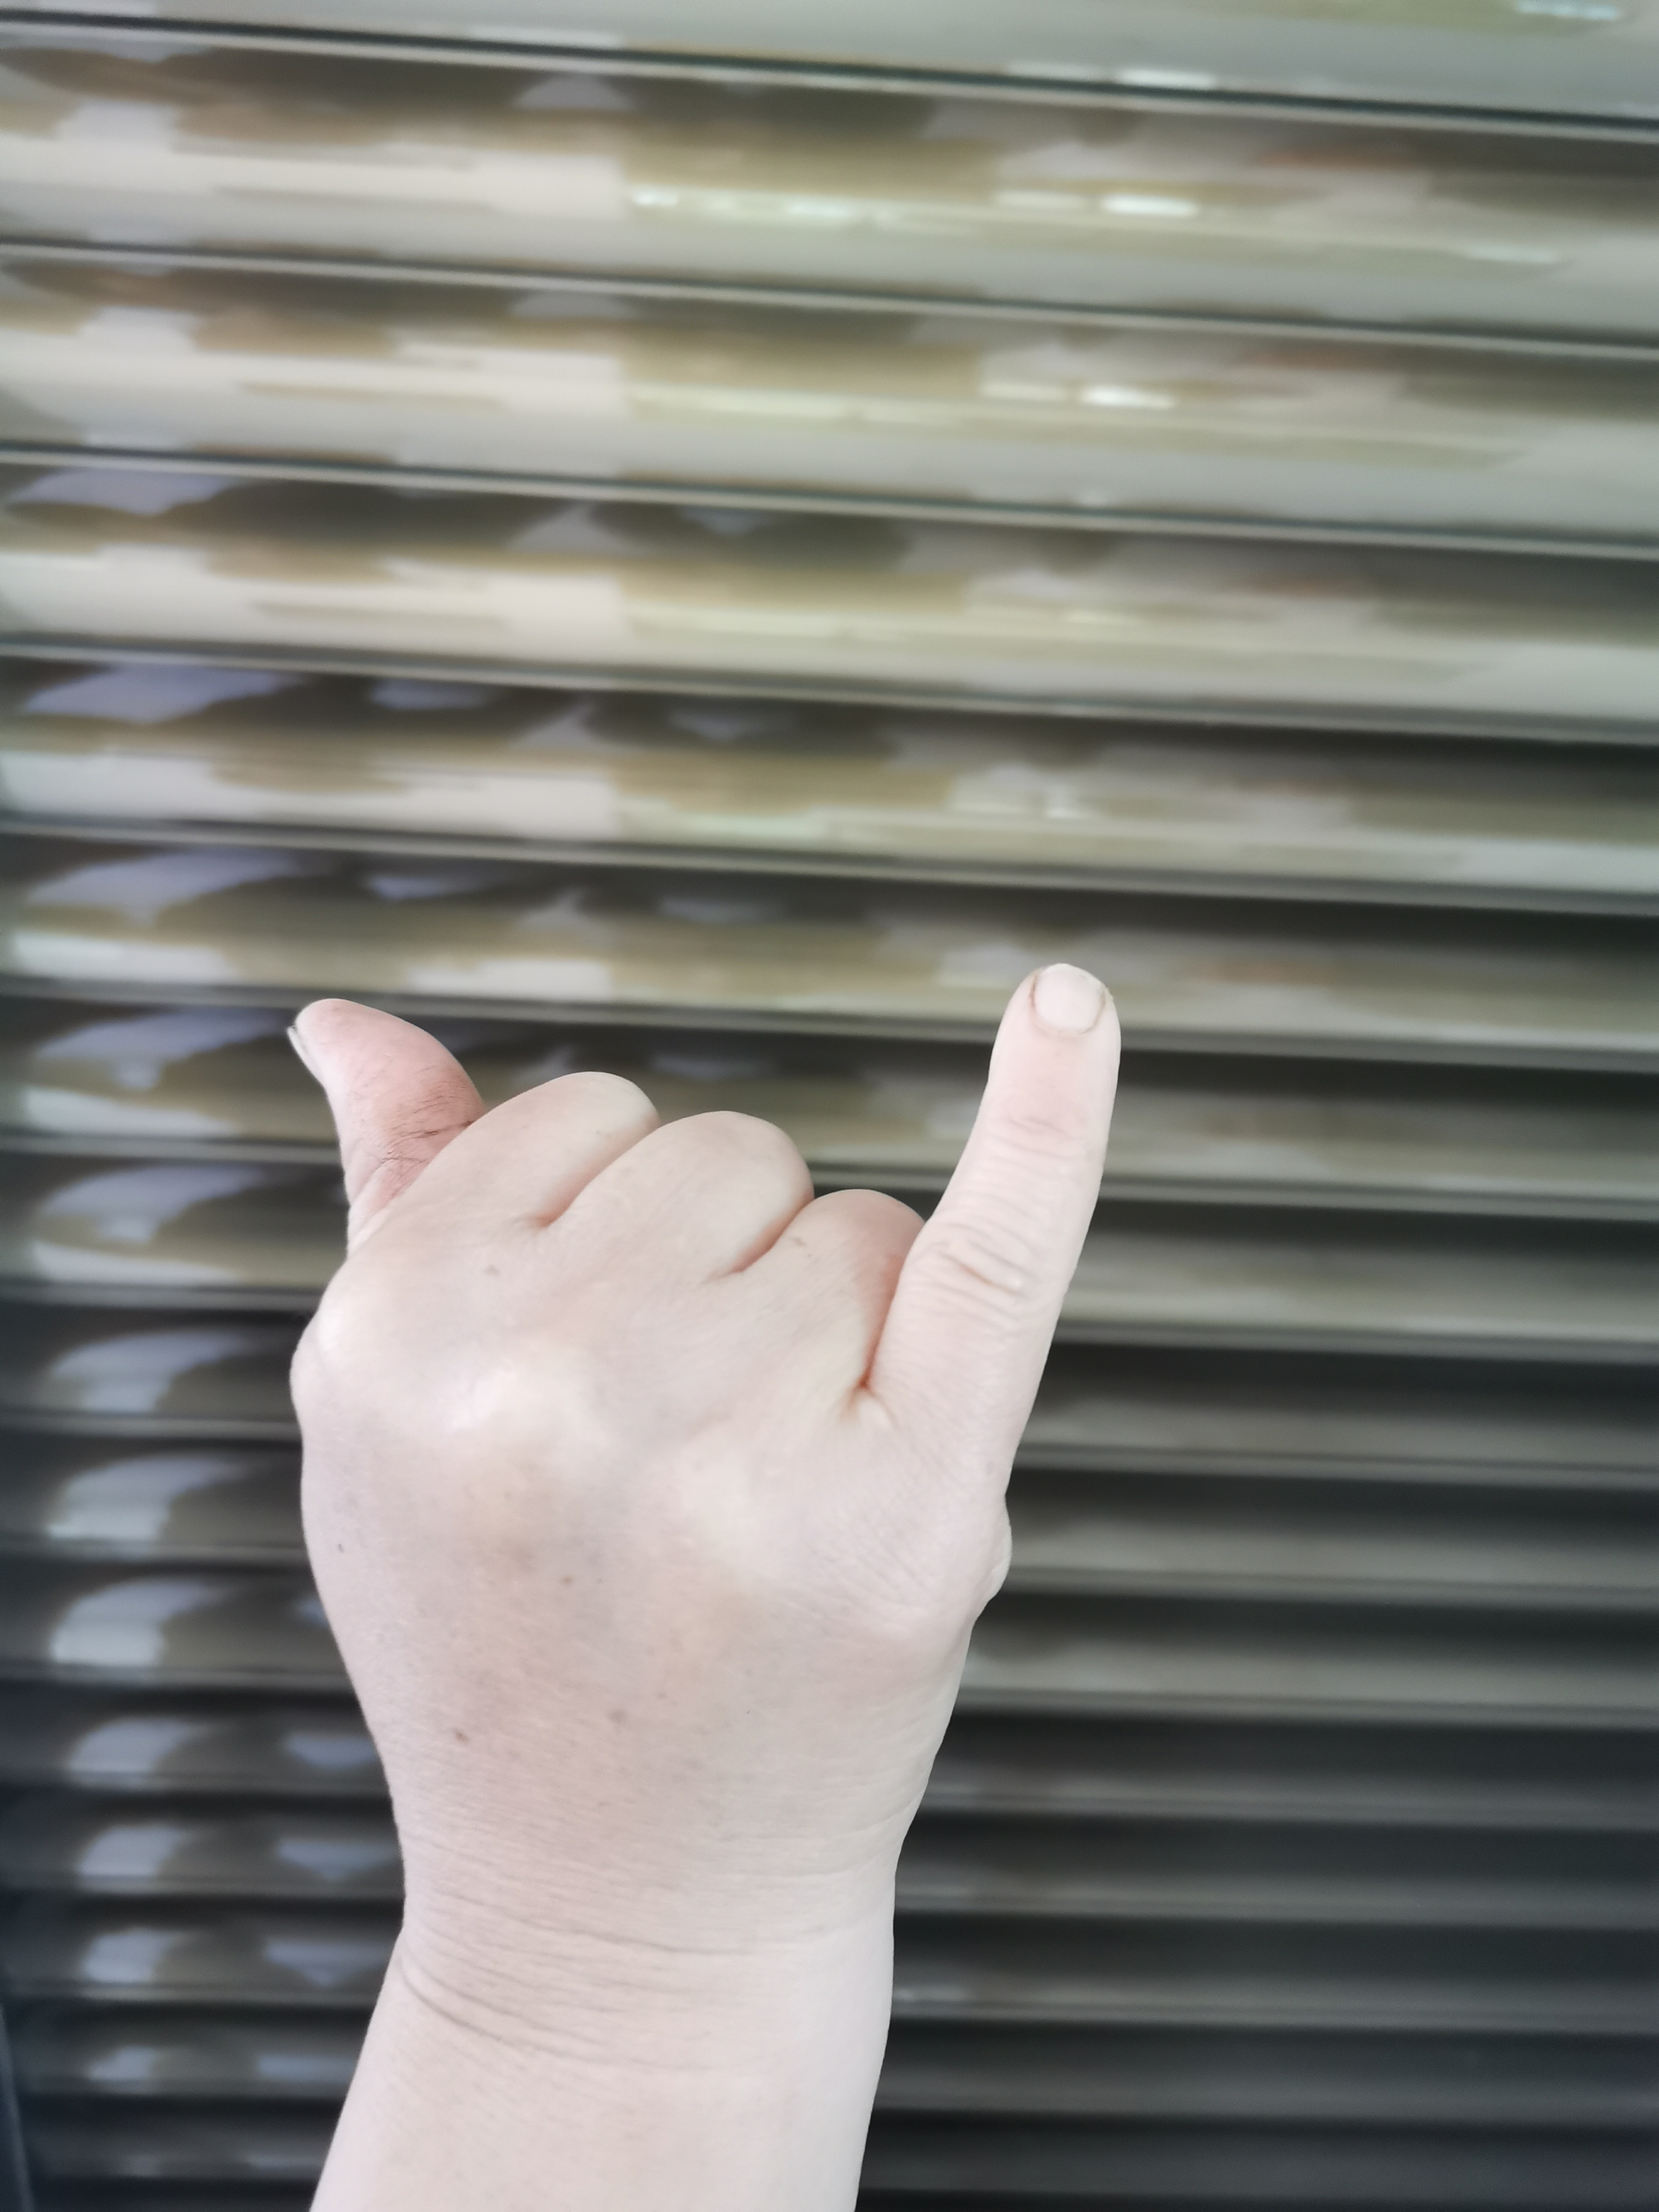clockwise: (244, 928, 1131, 1895)
